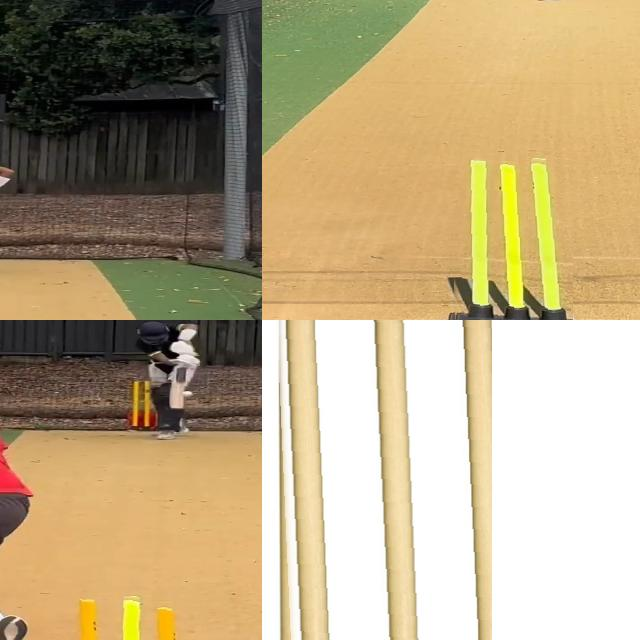Cricket ball: (181, 391, 194, 398)
Stumps: (269, 320, 492, 640), (448, 153, 572, 320), (55, 592, 195, 640)
